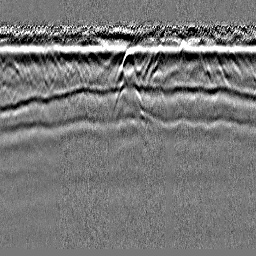cavity: (114, 46, 139, 84)
